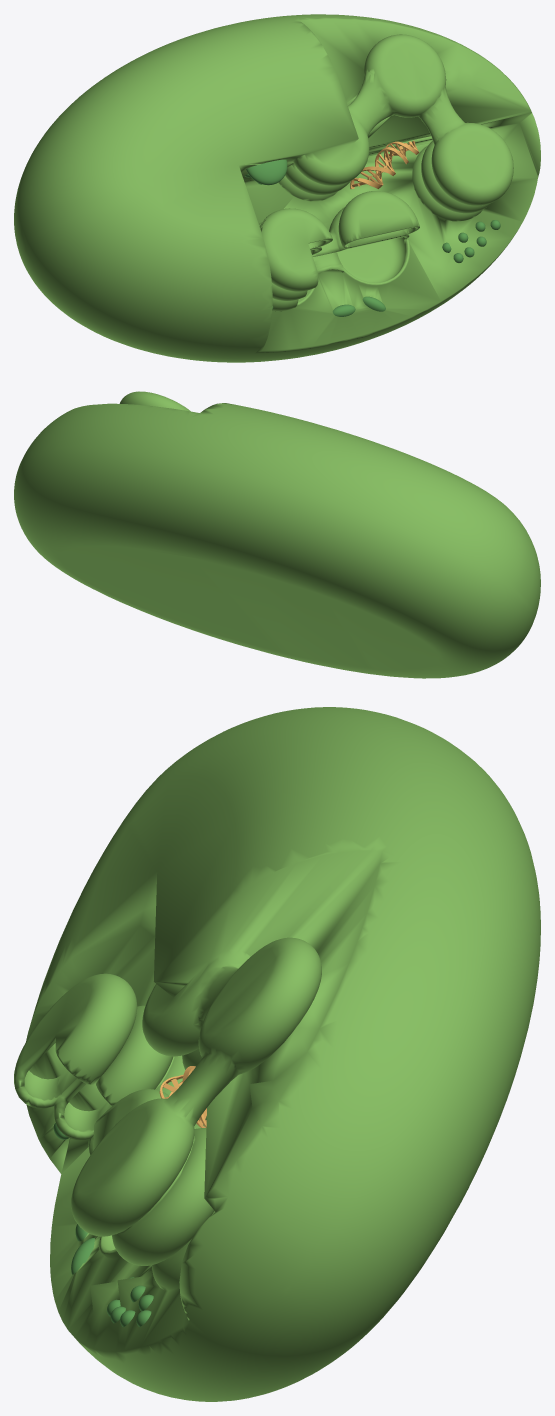
File: bio3d2-chloroplast.glb
3 renders of one model, top to bottom at view 1: azimuth 30°, elevation 25°; view 2: azimuth 150°, elevation 25°; view 3: azimuth 270°, elevation 25°, orthographic. The views are drawn at different scales.
Parts seen in each view (by area): view 1: Object_4, Object_39, Object_31, Object_7; view 2: Object_4; view 3: Object_4, Object_7.
Part boxes in pixels (x1,y1,x2,y2): Object_4: (14,14,540,362); Object_39: (246,159,385,316); Object_31: (350,140,419,189); Object_7: (245,174,500,262); Object_4: (14,391,540,678); Object_4: (14,707,540,1401); Object_7: (107,1277,153,1326).
Size of the model in its own units: 3.76 by 1.98 by 1.87.
